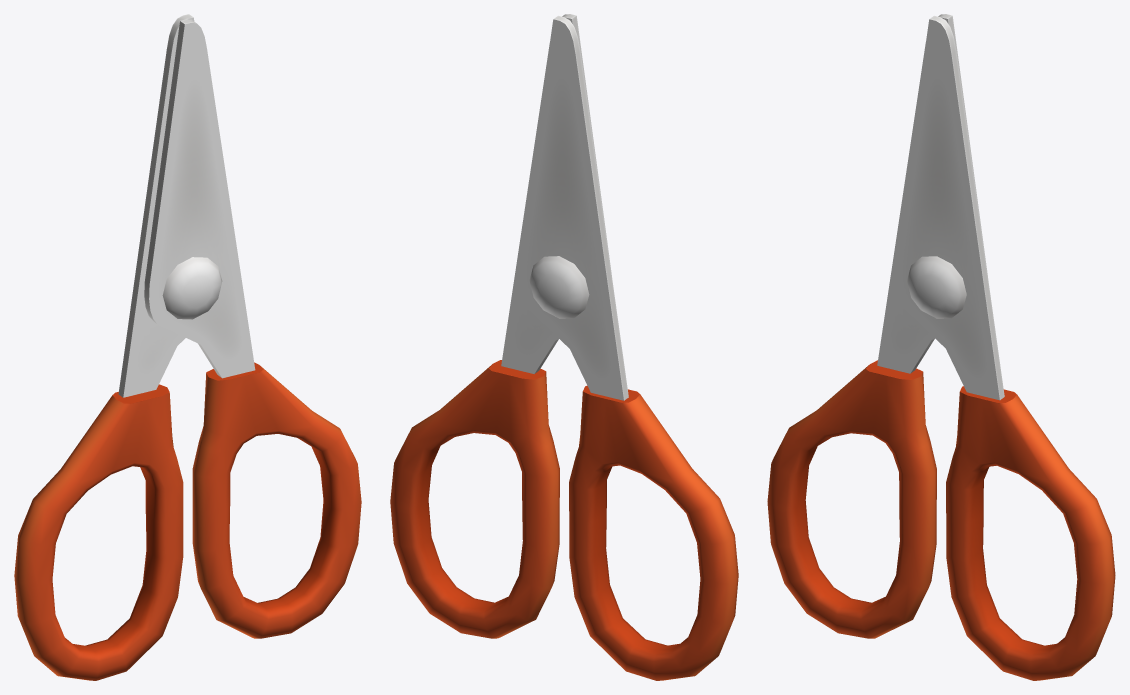
Rendered from ENV2010063.fbx.
3 renders of one model, left to right at view 1: azimuth 30°, elevation 25°; view 2: azimuth 150°, elevation 25°; view 3: azimuth 330°, elevation 25°, orthographic.
Visible parts, largest first — view 1: smENV2010063; view 2: smENV2010063; view 3: smENV2010063.
Boxes of the visible parts, bbox=[...] form: smENV2010063: bbox=[14, 14, 361, 680]; smENV2010063: bbox=[390, 14, 738, 680]; smENV2010063: bbox=[767, 14, 1115, 680].
Size of the model in its own units: 6.7 by 11.92 by 0.7513.
1 material, 1 textured.
